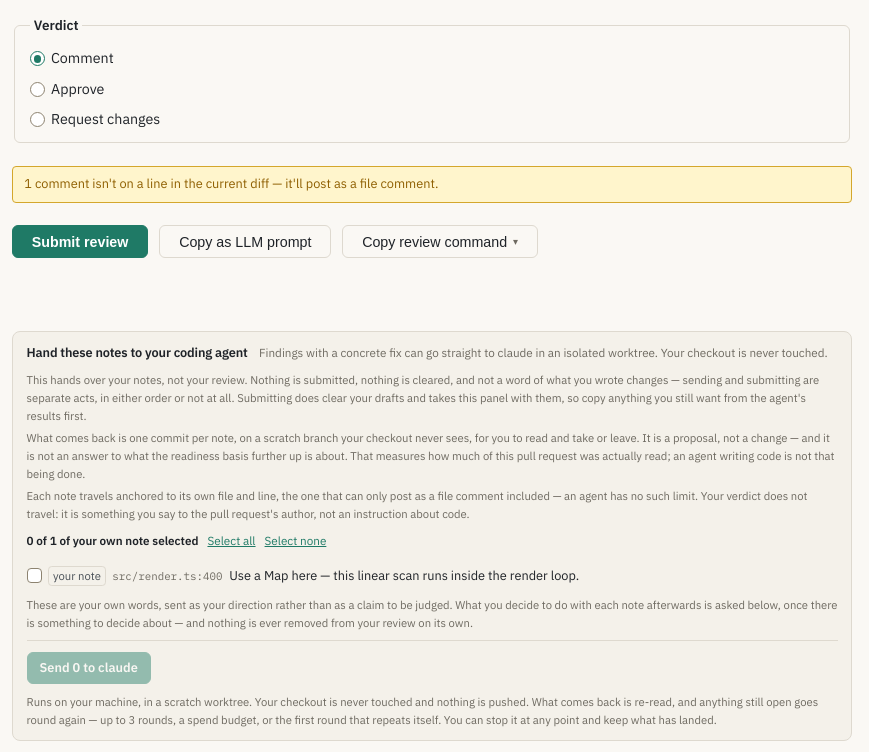
Test: what is handed over › sends a note the POSTING path has to re-route, and says so
(page scrolled)
Expected: the text with test id "offdiff-presubmit-note" is shown, [12,166,852,203]
Expected: the text with test id "verdict-handover-payload" shows "one that can only post as a file comment", [276,488,695,503]
Click the checkbox with test id "agent-fix-note-checkbox".
click(34, 576)  # box [26,568,42,583]
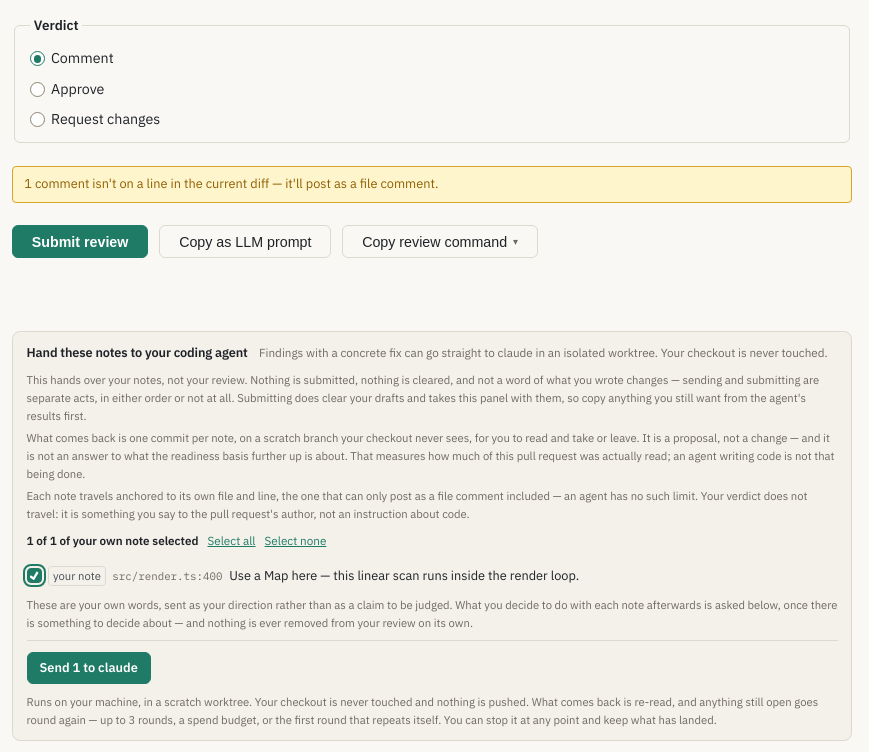
Click the button with test id "agent-fix-send".
click(89, 668)  # box [26,652,151,684]
(page scrolled)
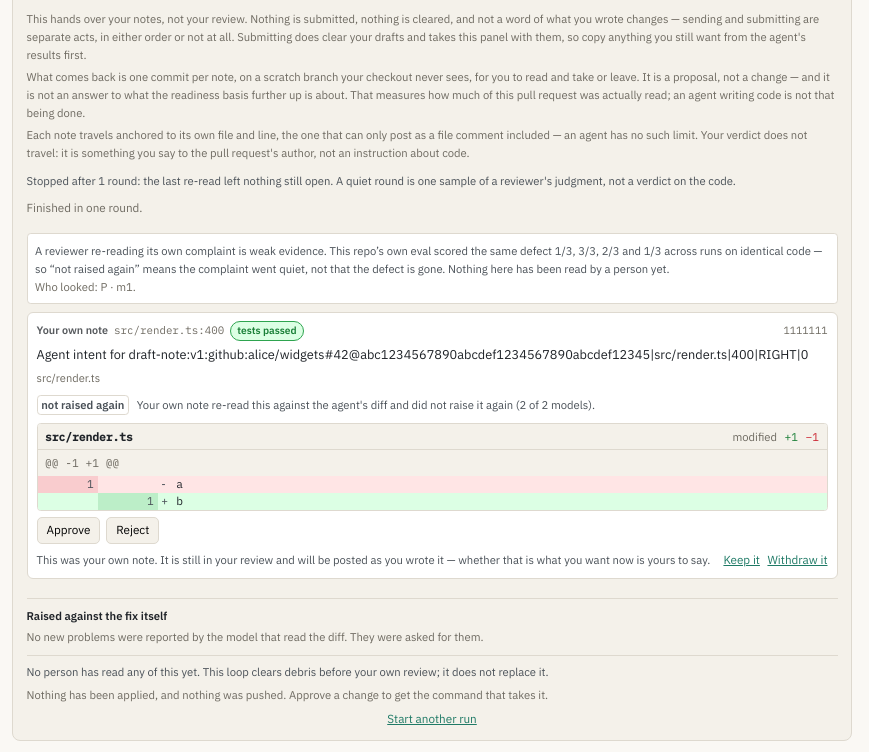
Result: the element with test id "agent-fix-result" is shown at [26,312,838,579]
